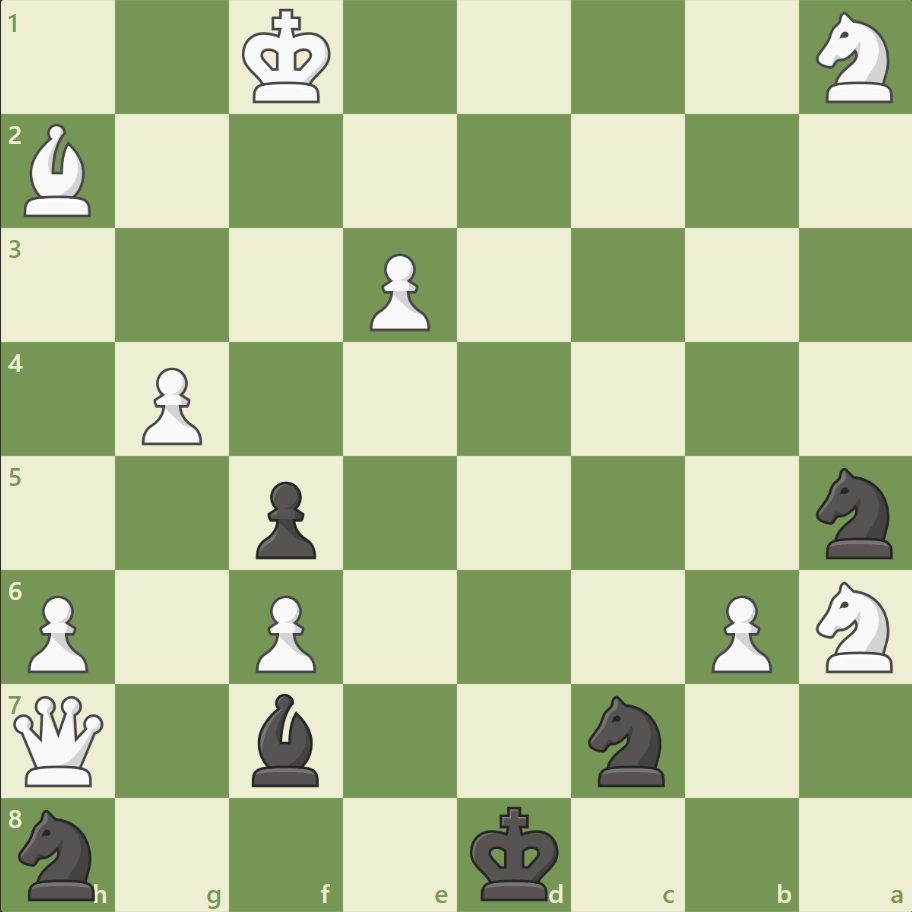B: (17, 120, 101, 222)
K: (238, 4, 338, 112)
N: (806, 7, 903, 110), (806, 575, 903, 677)
P: (701, 586, 776, 677), (247, 586, 322, 677), (20, 586, 95, 677), (133, 359, 208, 450), (361, 246, 435, 337)
Q: (10, 690, 109, 789)
b: (244, 687, 328, 790)
k: (465, 798, 565, 906)
n: (579, 688, 676, 791), (806, 461, 903, 564), (11, 802, 108, 904)
p: (247, 473, 322, 564)
